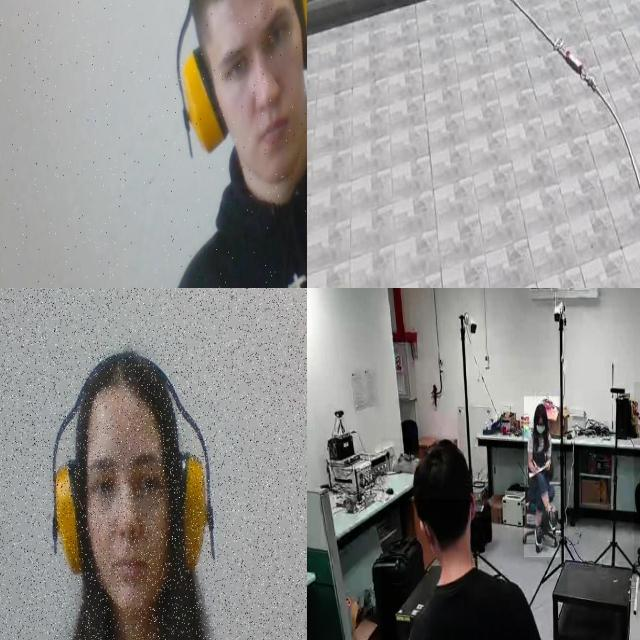Ear-protection: (35, 339, 218, 632), (152, 0, 307, 249)
Harness: (508, 0, 640, 189)
face_mask: (534, 416, 548, 434)
head_nohelmet: (412, 438, 472, 500), (533, 402, 547, 416)
person: (381, 438, 568, 640), (524, 397, 560, 558)
shoes: (532, 522, 546, 549), (546, 508, 560, 532), (634, 532, 640, 556)
